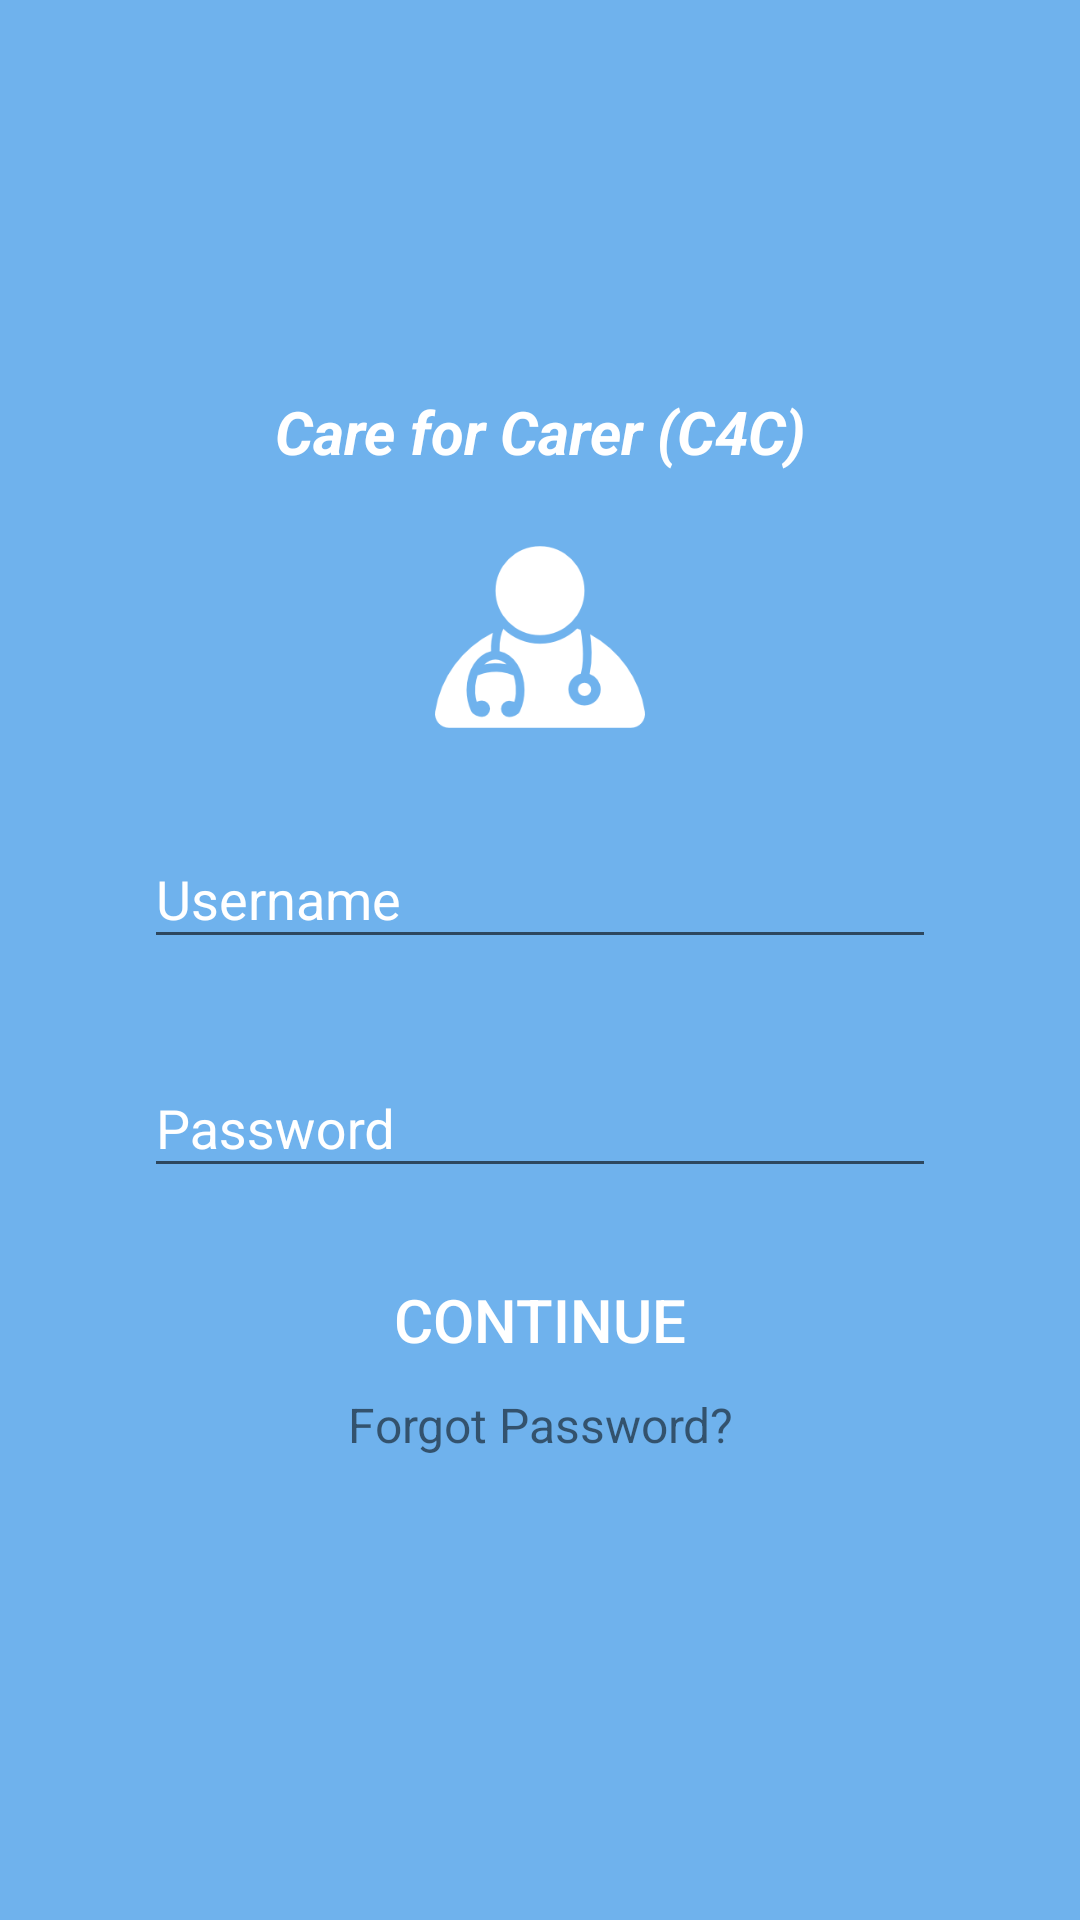

Named icons in this screenshot (1080px x 1920px) and their bounding boxes, (x1, y1, x2, y2):
doctor: (435, 546, 645, 728)
